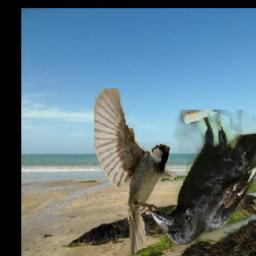Crow: (151, 111, 256, 246)
Sparrow: (94, 84, 179, 256)
